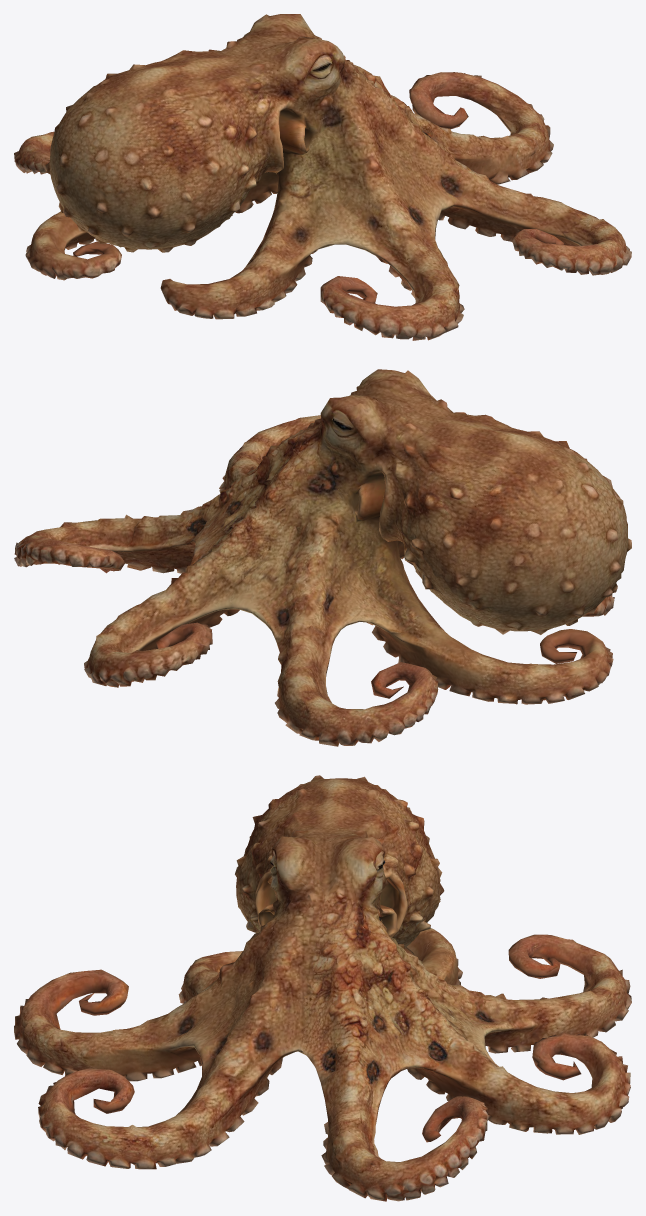
The model's file is octopus.glb.
3 renders of one model, top to bottom at view 1: azimuth 30°, elevation 25°; view 2: azimuth 150°, elevation 25°; view 3: azimuth 270°, elevation 25°, orthographic. The views are drawn at different scales.
Parts seen in each view (by area): view 1: tripo_node_9a4db598-8721-44de-b520-4854ad2e161d; view 2: tripo_node_9a4db598-8721-44de-b520-4854ad2e161d; view 3: tripo_node_9a4db598-8721-44de-b520-4854ad2e161d.
Boxes of the visible parts, x1,y1,x2,y2 form: tripo_node_9a4db598-8721-44de-b520-4854ad2e161d: [14, 14, 631, 340]; tripo_node_9a4db598-8721-44de-b520-4854ad2e161d: [14, 369, 631, 746]; tripo_node_9a4db598-8721-44de-b520-4854ad2e161d: [14, 775, 631, 1201].
Size of the model in its own units: 1 by 0.3875 by 0.9743.
Materials: 1 (1 with a texture image).
